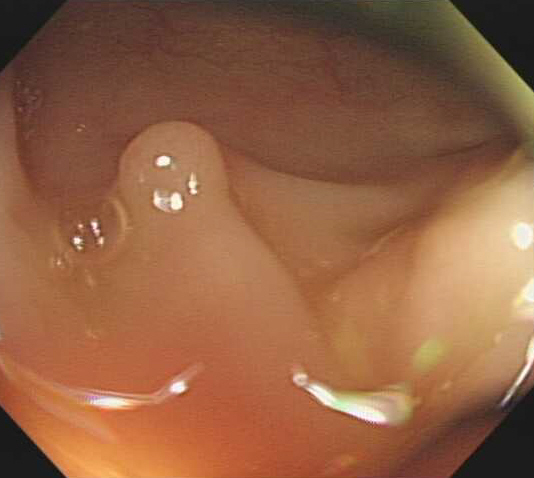adenoma: (114, 115, 231, 231)
